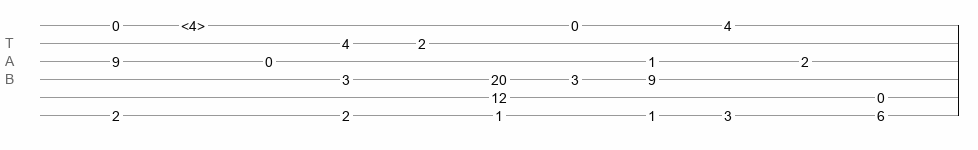0: (112, 18, 120, 28), (265, 54, 273, 64), (571, 18, 579, 28), (877, 90, 885, 100)
1: (495, 108, 503, 118), (648, 54, 656, 64), (648, 108, 656, 118)
12: (491, 90, 507, 100)
2: (112, 108, 120, 118), (342, 108, 350, 118), (418, 36, 426, 46), (801, 54, 809, 64)
20: (491, 72, 507, 82)
3: (342, 72, 350, 82), (571, 72, 579, 82), (724, 108, 732, 118)
4: (342, 36, 350, 46), (724, 18, 732, 28)
6: (877, 108, 885, 118)
9: (112, 54, 120, 64), (648, 72, 656, 82)
harmonic: (181, 18, 205, 28)
